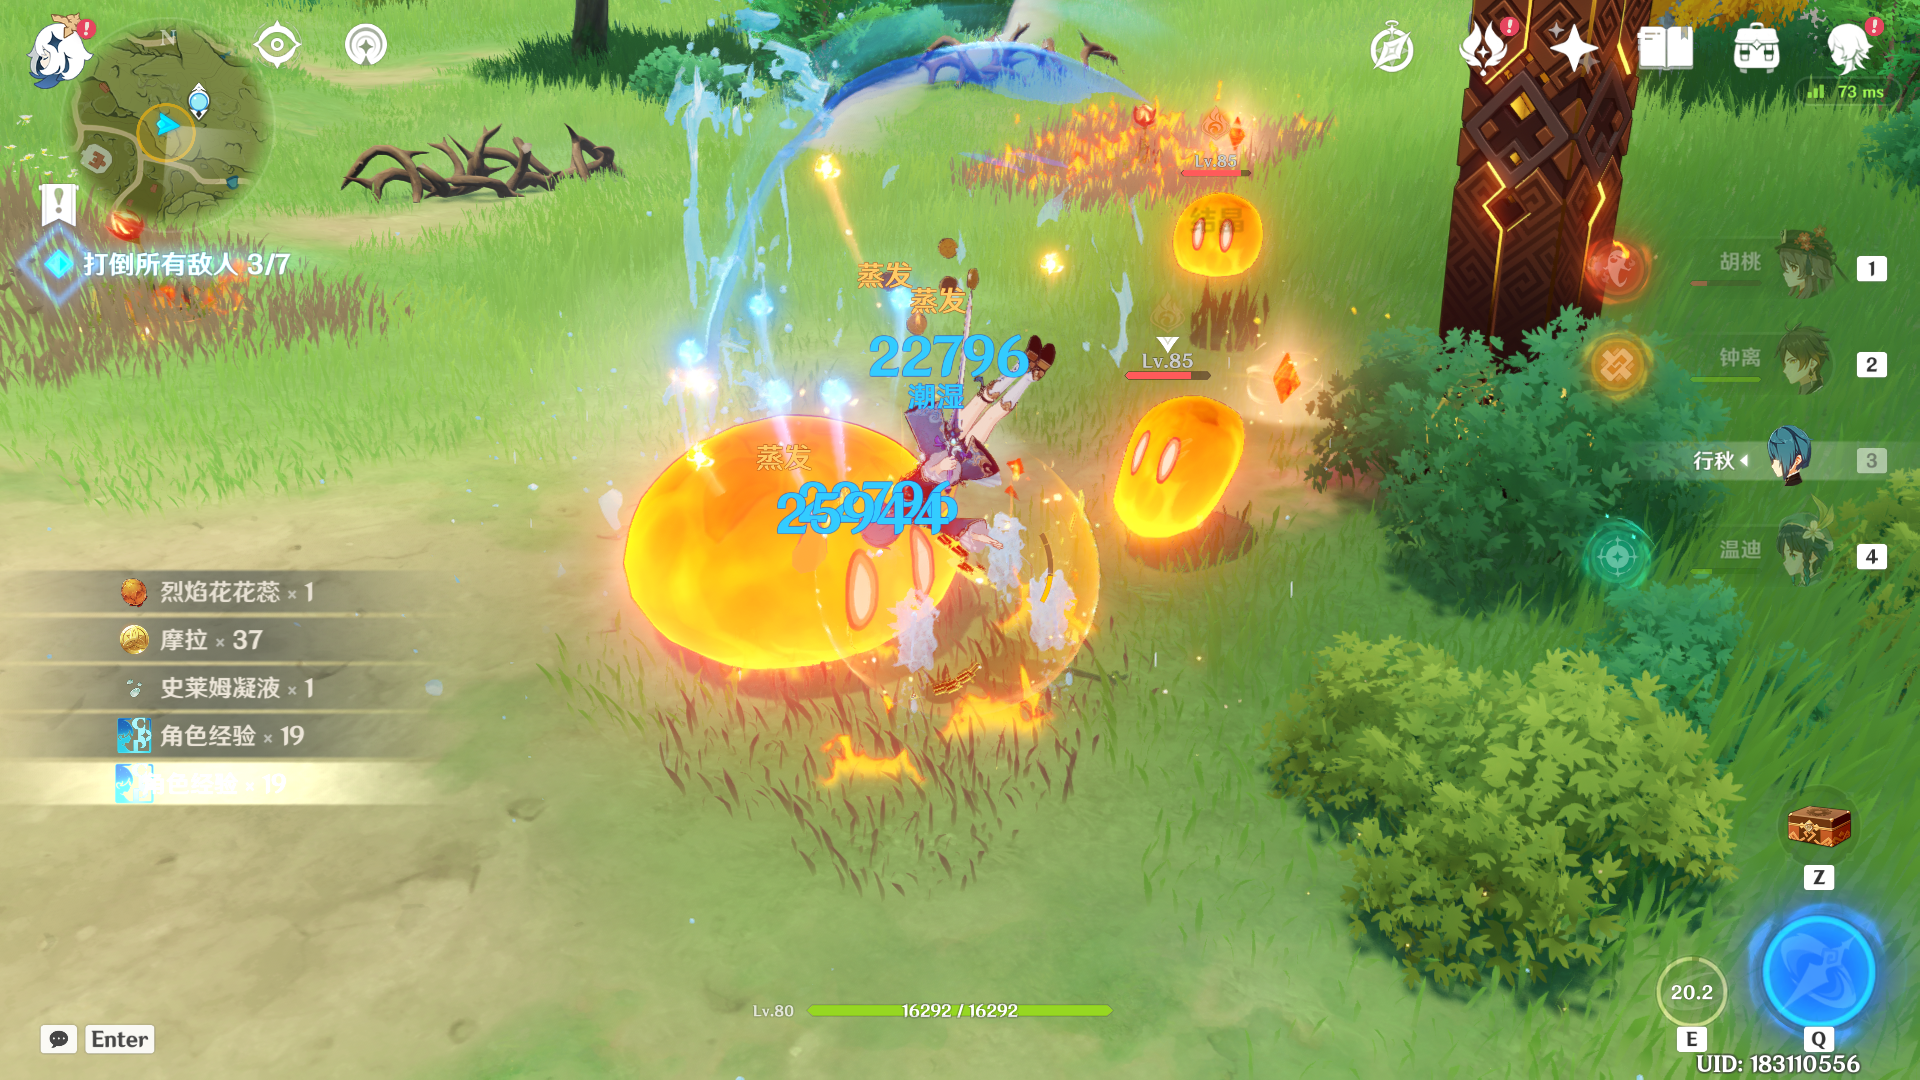character: (840, 301, 1105, 585)
slime: (589, 367, 969, 705), (1083, 367, 1283, 550), (1153, 170, 1298, 301)
